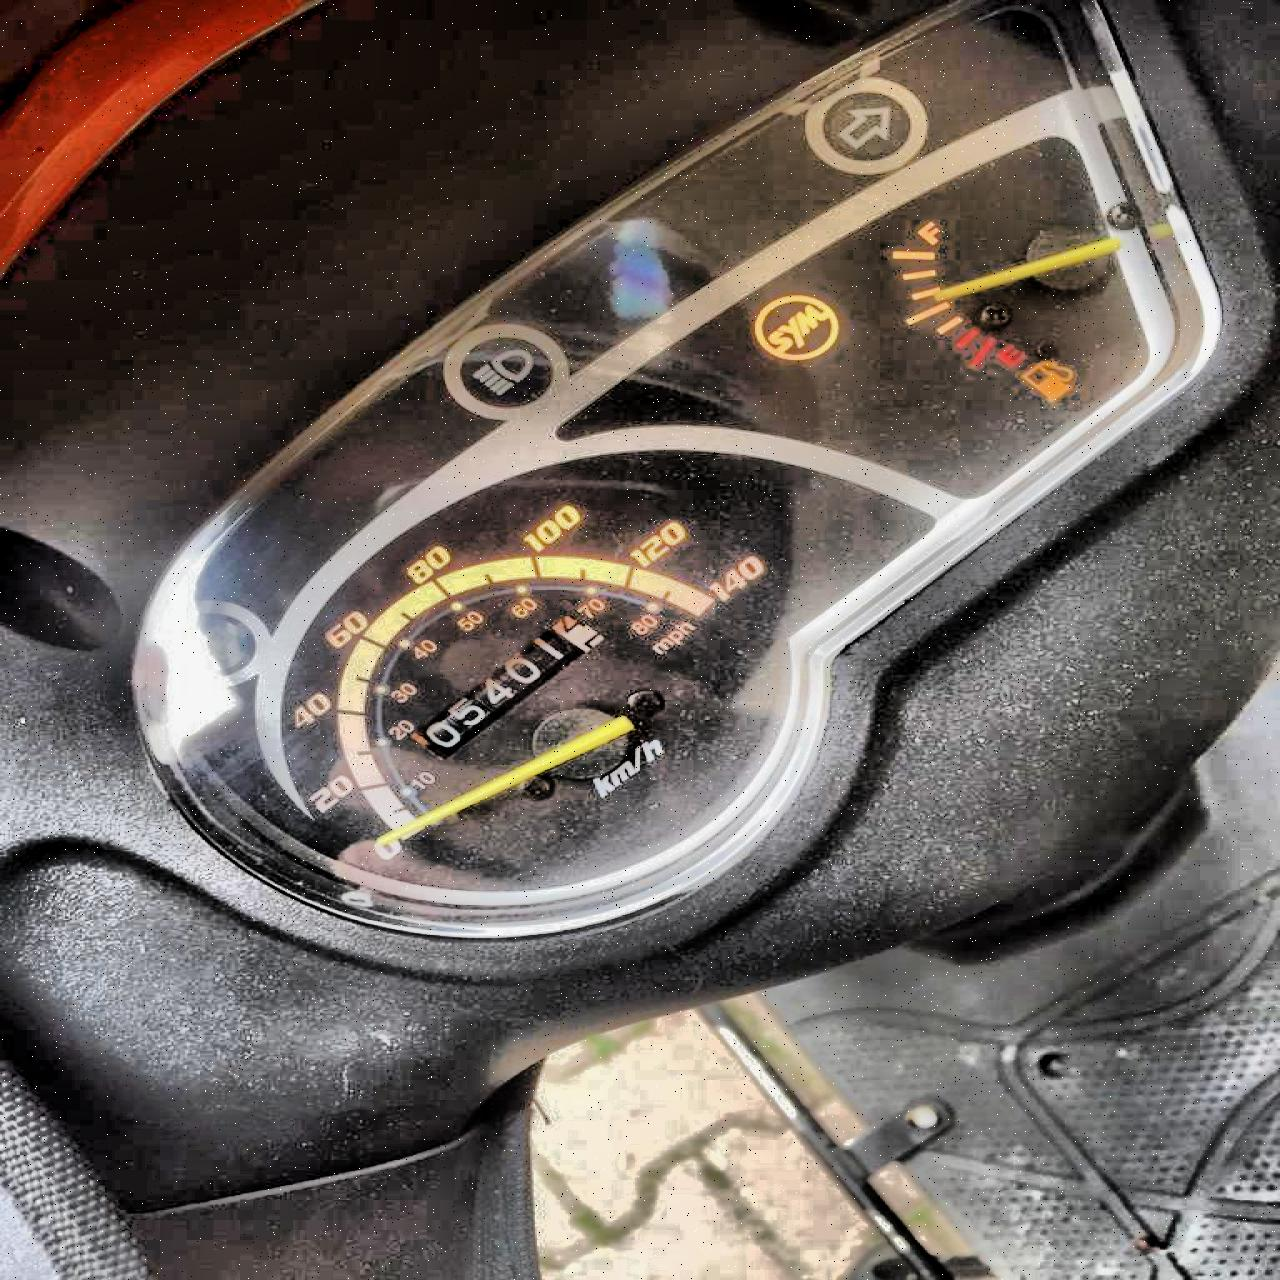0: (502, 655, 540, 682), (423, 720, 458, 748), (416, 638, 436, 652), (402, 680, 414, 695), (465, 612, 481, 622), (402, 719, 411, 731)
1: (530, 632, 564, 660)
4: (481, 676, 515, 703), (557, 614, 588, 634), (411, 645, 427, 659)
5: (443, 694, 485, 724), (456, 618, 471, 631)
odometer: (402, 611, 606, 764)
